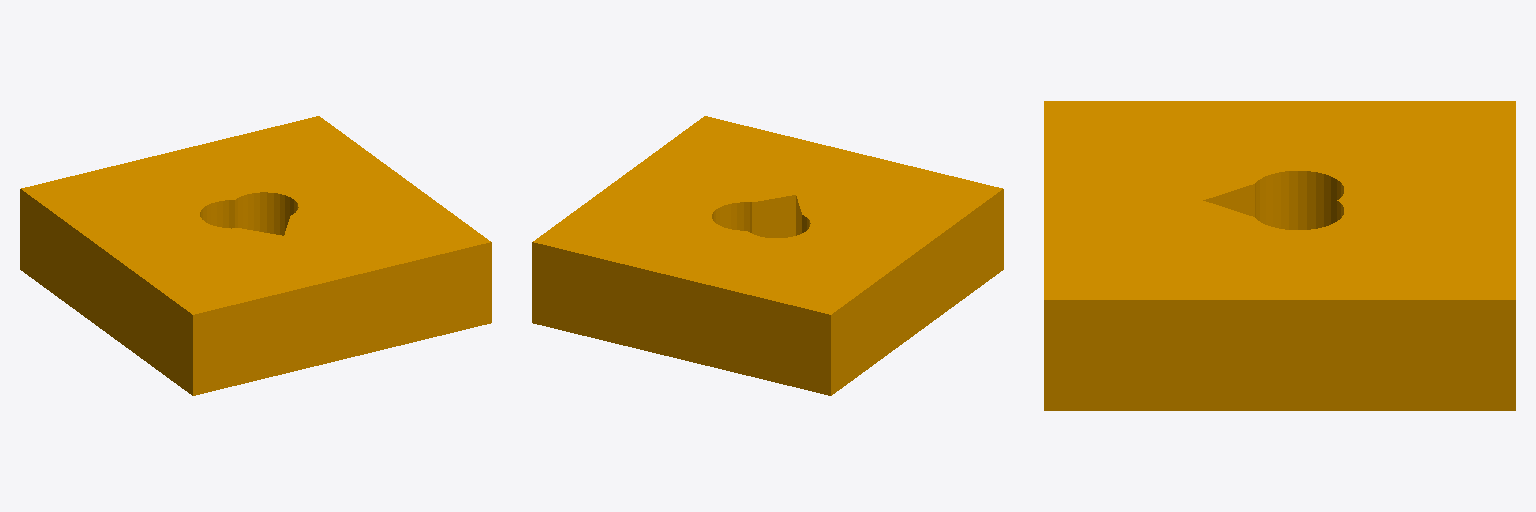
URDF robot description (socket_heart):
<?xml version='1.0' encoding='utf-8'?>
<robot name="socket_heart">
  <link name="body">
    <inertial>
      <origin xyz="-1.214396088810125e-18 -0.00017956861130411989 0.025718337898373286" />
      <mass value="0.6" />
      <inertia ixx="0.002225138830245111" iyy="0.0022246200603184252" izz="0.004176299475272708" ixy="-8.571137672793233e-20" ixz="-4.6697609831226524e-20" iyz="6.767936041624491e-07" />
    </inertial>
    <collision>
      <geometry>
        <mesh filename="part_00.obj" />
      </geometry>
    </collision>
    <collision>
      <geometry>
        <mesh filename="part_01.obj" />
      </geometry>
    </collision>
    <collision>
      <geometry>
        <mesh filename="part_02.obj" />
      </geometry>
    </collision>
    <collision>
      <geometry>
        <mesh filename="part_03.obj" />
      </geometry>
    </collision>
    <collision>
      <geometry>
        <mesh filename="part_04.obj" />
      </geometry>
    </collision>
    <collision>
      <geometry>
        <mesh filename="part_05.obj" />
      </geometry>
    </collision>
    <collision>
      <geometry>
        <mesh filename="part_06.obj" />
      </geometry>
    </collision>
    <collision>
      <geometry>
        <mesh filename="part_07.obj" />
      </geometry>
    </collision>
    <collision>
      <geometry>
        <mesh filename="part_08.obj" />
      </geometry>
    </collision>
    <collision>
      <geometry>
        <mesh filename="part_09.obj" />
      </geometry>
    </collision>
    <collision>
      <geometry>
        <mesh filename="part_10.obj" />
      </geometry>
    </collision>
    <collision>
      <geometry>
        <mesh filename="part_11.obj" />
      </geometry>
    </collision>
    <collision>
      <geometry>
        <mesh filename="part_12.obj" />
      </geometry>
    </collision>
    <collision>
      <geometry>
        <mesh filename="part_13.obj" />
      </geometry>
    </collision>
    <collision>
      <geometry>
        <mesh filename="part_14.obj" />
      </geometry>
    </collision>
    <collision>
      <geometry>
        <mesh filename="part_15.obj" />
      </geometry>
    </collision>
    <collision>
      <geometry>
        <mesh filename="part_16.obj" />
      </geometry>
    </collision>
    <collision>
      <geometry>
        <mesh filename="part_17.obj" />
      </geometry>
    </collision>
    <collision>
      <geometry>
        <mesh filename="part_18.obj" />
      </geometry>
    </collision>
    <collision>
      <geometry>
        <mesh filename="part_19.obj" />
      </geometry>
    </collision>
    <collision>
      <geometry>
        <mesh filename="part_20.obj" />
      </geometry>
    </collision>
    <collision>
      <geometry>
        <mesh filename="part_21.obj" />
      </geometry>
    </collision>
    <collision>
      <geometry>
        <mesh filename="part_22.obj" />
      </geometry>
    </collision>
    <collision>
      <geometry>
        <mesh filename="part_23.obj" />
      </geometry>
    </collision>
    <collision>
      <geometry>
        <mesh filename="part_24.obj" />
      </geometry>
    </collision>
    <collision>
      <geometry>
        <mesh filename="part_25.obj" />
      </geometry>
    </collision>
    <collision>
      <geometry>
        <mesh filename="part_26.obj" />
      </geometry>
    </collision>
    <collision>
      <geometry>
        <mesh filename="part_27.obj" />
      </geometry>
    </collision>
    <collision>
      <geometry>
        <mesh filename="part_28.obj" />
      </geometry>
    </collision>
    <collision>
      <geometry>
        <mesh filename="part_29.obj" />
      </geometry>
    </collision>
    <collision>
      <geometry>
        <mesh filename="part_30.obj" />
      </geometry>
    </collision>
    <collision>
      <geometry>
        <mesh filename="part_31.obj" />
      </geometry>
    </collision>
    <collision>
      <geometry>
        <mesh filename="part_32.obj" />
      </geometry>
    </collision>
    <collision>
      <geometry>
        <mesh filename="part_33.obj" />
      </geometry>
    </collision>
    <collision>
      <geometry>
        <mesh filename="part_34.obj" />
      </geometry>
    </collision>
    <visual>
      <geometry>
        <mesh filename="visual.obj" />
      </geometry>
    </visual>
  </link>
</robot>

--- What the picture shows (computed from the rendered views, not written in the file) ---
Views: 3 orthographic renders of the robot side by side, from view 1: azimuth 30°, elevation 25°; view 2: azimuth 150°, elevation 25°; view 3: azimuth 270°, elevation 25°.
Model socket_heart with 1 links and 0 joints (none), rooted at body, posed every joint at zero.
Visible links, largest first — view 1: body; view 2: body; view 3: body.
Link boxes in pixels (x1=…): body: x1=20, y1=116, x2=491, y2=395; body: x1=532, y1=116, x2=1003, y2=395; body: x1=1044, y1=101, x2=1515, y2=410.
Bounding box of the posed robot: 0.2 × 0.2 × 0.052 m (x, y, z).
Meshes: 1 distinct files referenced, 1 mesh visuals loaded (1 OBJ).
